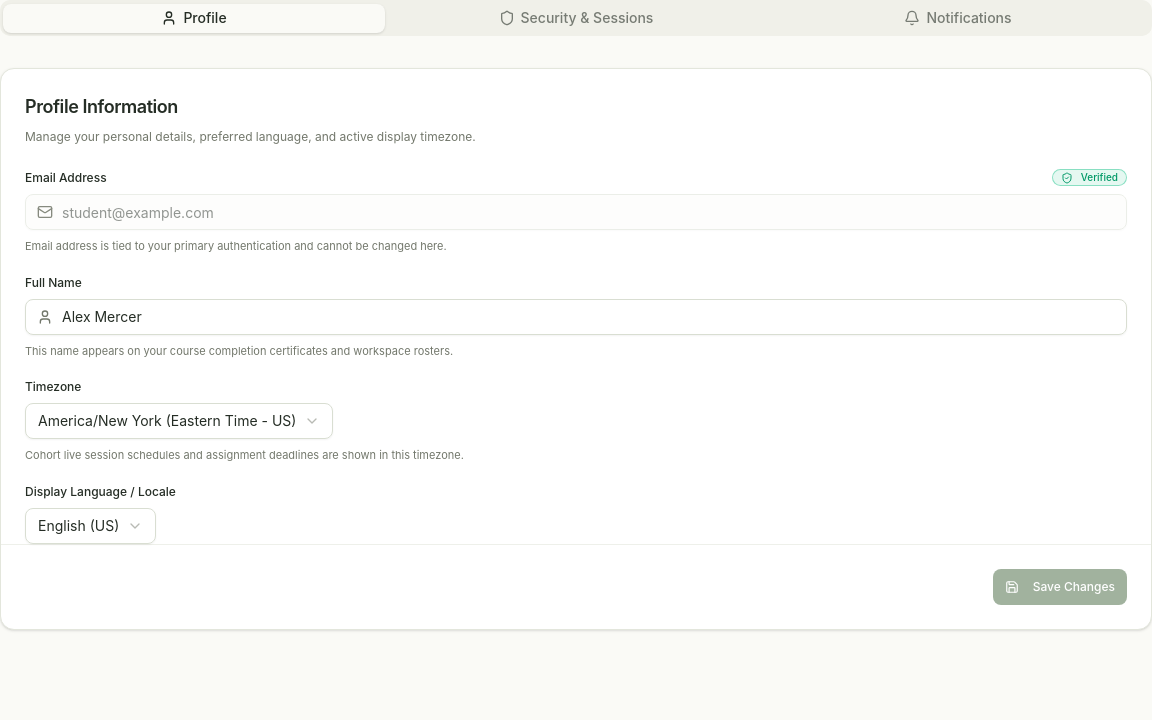
Test: AccountSettingsView Component › renders tabs and allows switching between Profile, Security, and Notifications
Expected: the field showing "Alex Mercer" below "Full Name" is shown, [25, 298, 1127, 334]
# Switch to Security tab
Click the tab "Security & Sessions".
click(576, 18)  # box [385, 4, 767, 32]
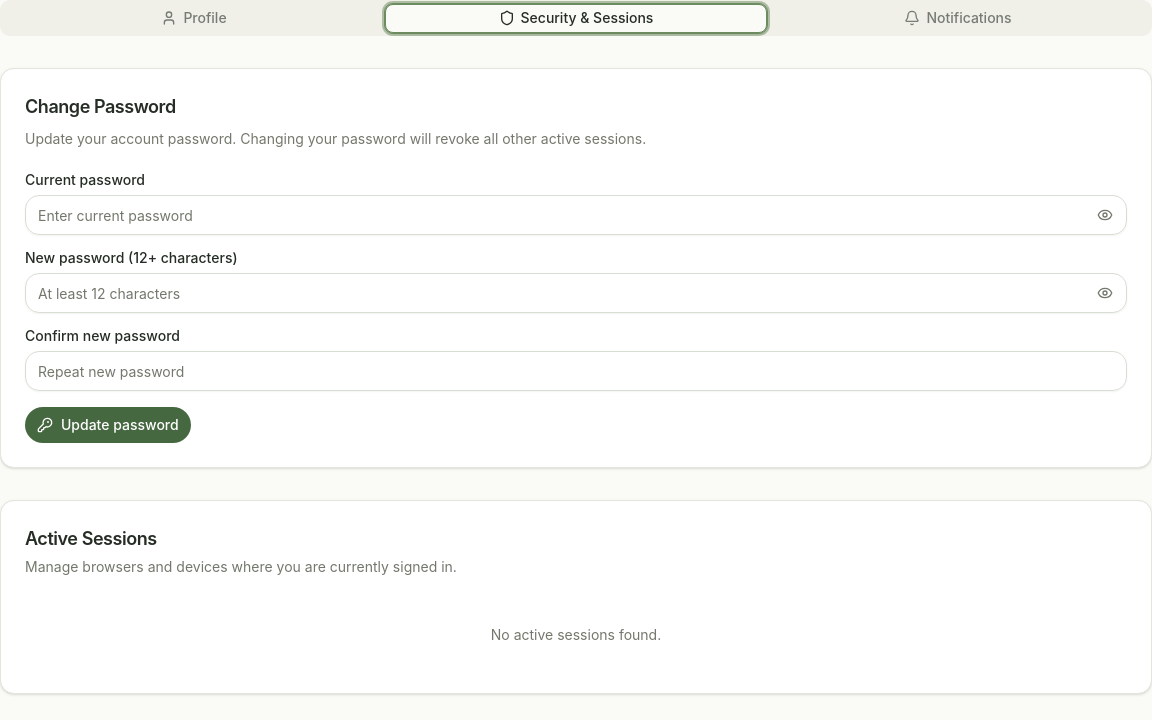
# Switch to Notifications tab
Click the tab "Notifications".
click(958, 18)  # box [767, 4, 1149, 32]
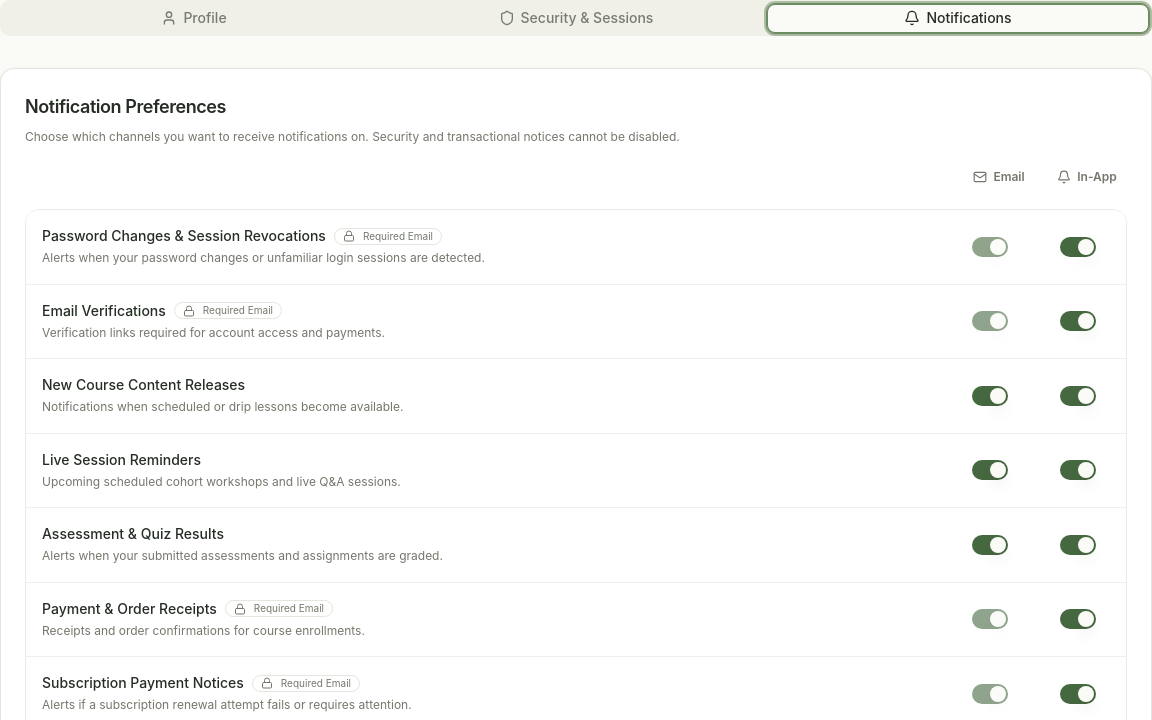
Result: the text "Notification Preferences" is shown at [25, 96, 226, 117]
